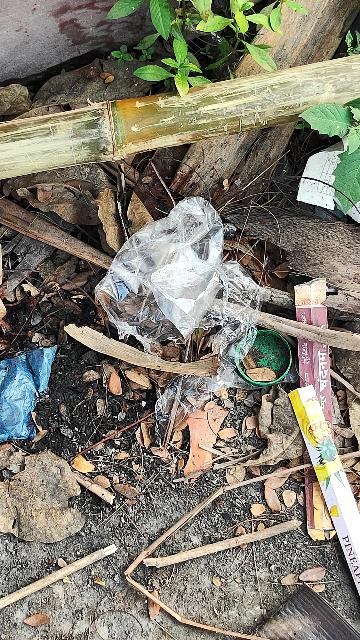hardplastic: (224, 330, 300, 385)
